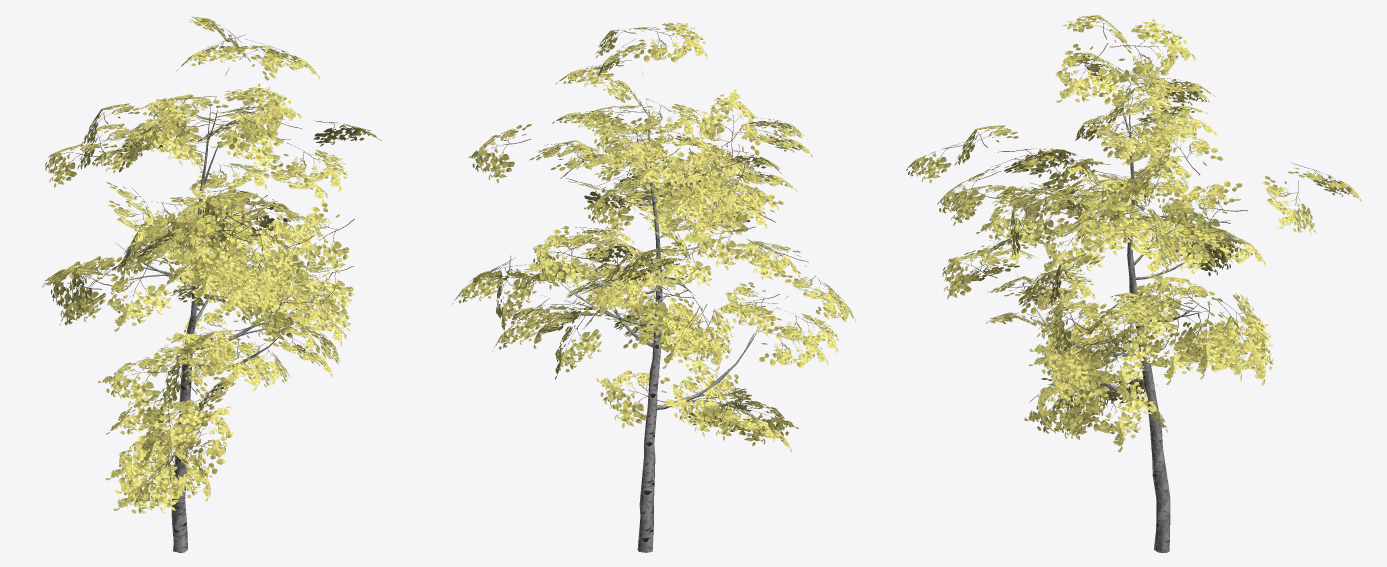
Rendered from aspen-a.glb.
3 views of the same model, side by side, from view 1: azimuth 30°, elevation 25°; view 2: azimuth 150°, elevation 25°; view 3: azimuth 270°, elevation 25° (orthographic). The views are drawn at different scales.
Visible parts, largest first — view 1: aspen-a; view 2: aspen-a; view 3: aspen-a.
Boxes of the visible parts, x1=… form: aspen-a: x1=41, y1=16, x2=381, y2=552; aspen-a: x1=452, y1=22, x2=855, y2=552; aspen-a: x1=906, y1=15, x2=1361, y2=552.
Size of the model in its own units: 6.45 by 9 by 7.29.
Materials: 2 (2 with a texture image).
